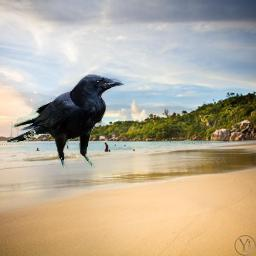Crow: (6, 74, 125, 168)
